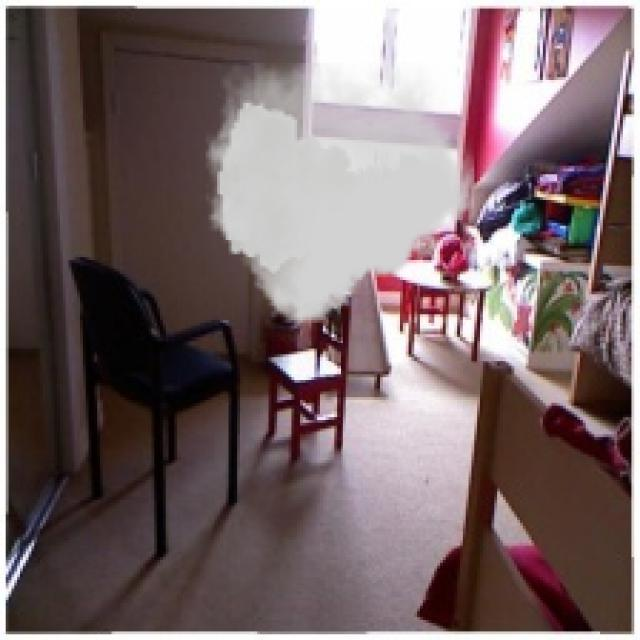Smoke: (206, 63, 474, 323)
